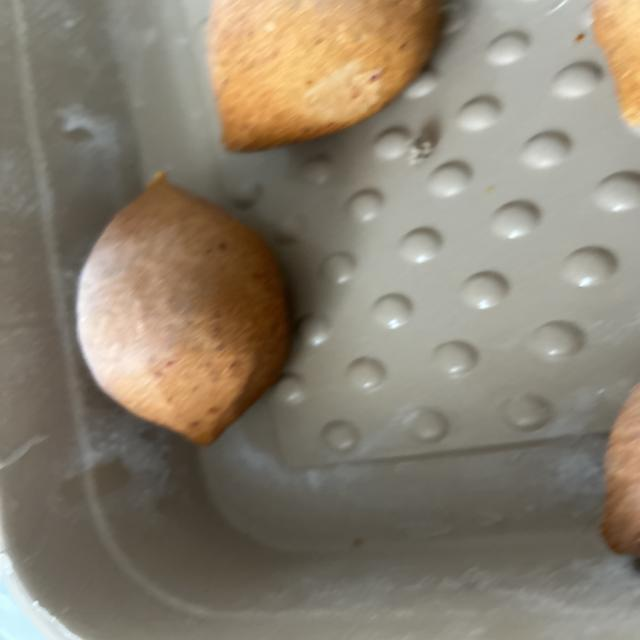kobi: (74, 171, 294, 446), (206, 0, 443, 153)
